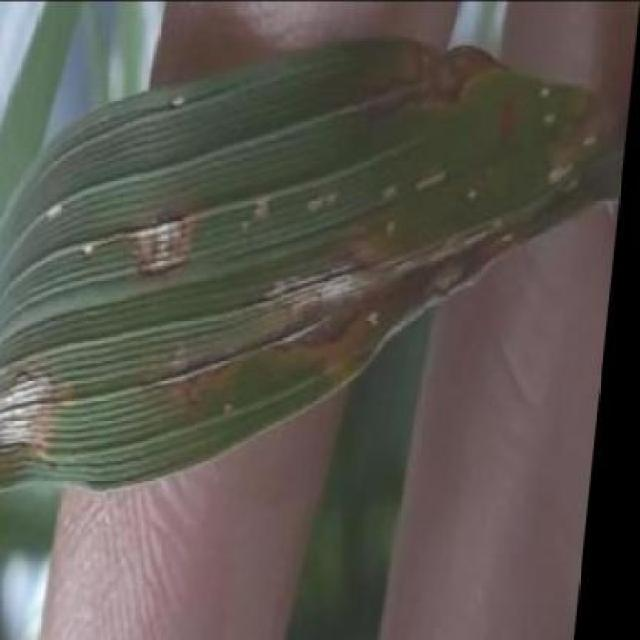Bacterial_Leaf_Blight: (218, 208, 525, 329), (345, 35, 533, 150), (0, 338, 71, 499), (94, 188, 209, 286), (552, 79, 640, 207), (133, 328, 247, 410)
